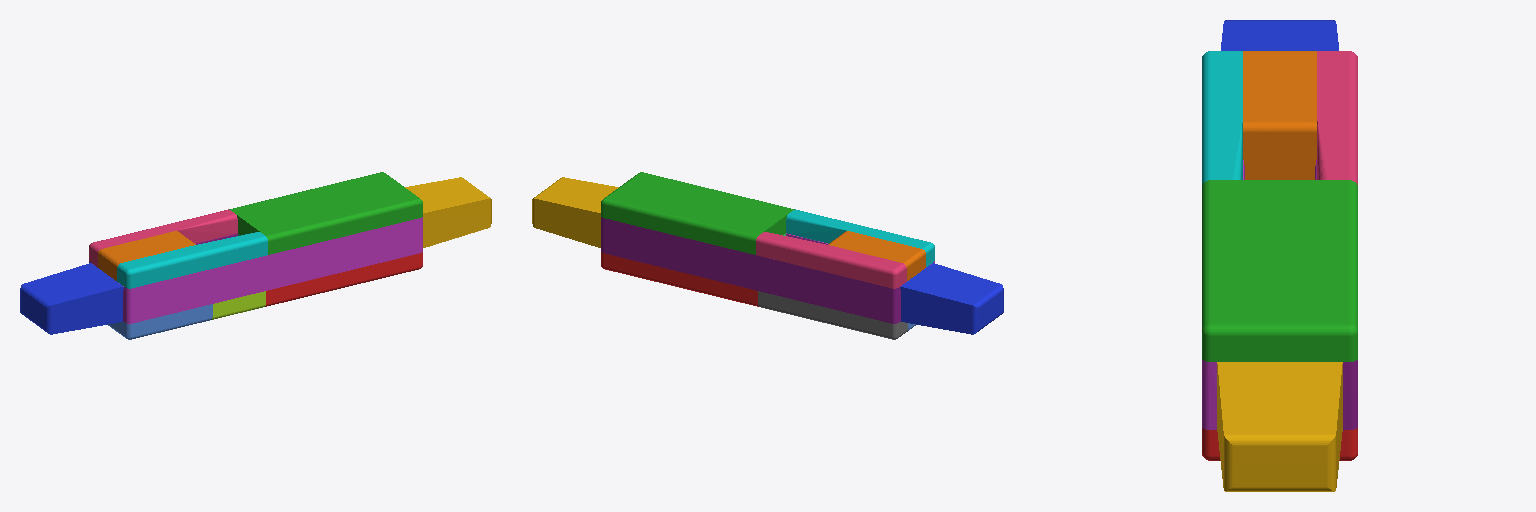
robot.urdf — beam_3_coacd:
<?xml version="1.0"?>
<robot name="beam_3_coacd">
  <material name="color_0"><color rgba="0.9 0.2 0.2 1.0"/></material>
  <material name="color_1"><color rgba="0.2 0.7 0.2 1.0"/></material>
  <material name="color_2"><color rgba="0.2 0.3 0.9 1.0"/></material>
  <material name="color_3"><color rgba="0.9 0.7 0.1 1.0"/></material>
  <material name="color_4"><color rgba="0.8 0.3 0.8 1.0"/></material>
  <material name="color_5"><color rgba="0.1 0.8 0.8 1.0"/></material>
  <material name="color_6"><color rgba="0.9 0.5 0.1 1.0"/></material>
  <material name="color_7"><color rgba="0.5 0.5 0.5 1.0"/></material>
  <material name="color_8"><color rgba="0.6 0.2 0.6 1.0"/></material>
  <material name="color_9"><color rgba="0.3 0.9 0.5 1.0"/></material>
  <material name="color_10"><color rgba="0.9 0.3 0.5 1.0"/></material>
  <material name="color_11"><color rgba="0.4 0.6 0.9 1.0"/></material>
  <material name="color_12"><color rgba="0.7 0.9 0.2 1.0"/></material>
  <link name="base_link">
    <inertial>
      <density value="1250.0"/>
    </inertial>
  </link>
  <link name="hull_0">
    <visual>
      <origin xyz="0 0 0" rpy="0 0 0"/>
      <geometry>
        <mesh filename="decomp_0.obj" scale="1 1 1"/>
      </geometry>
      <material name="color_0"/>
    </visual>
    <collision>
      <origin xyz="0 0 0" rpy="0 0 0"/>
      <geometry>
        <mesh filename="decomp_0.obj" scale="1 1 1"/>
      </geometry>
    </collision>
    <inertial>
      <mass value="0.001"/>
      <inertia ixx="1e-6" ixy="0" ixz="0" iyy="1e-6" iyz="0" izz="1e-6"/>
    </inertial>
  </link>
  <joint name="hull_joint_0" type="fixed">
    <parent link="base_link"/>
    <child link="hull_0"/>
    <origin xyz="0 0 0" rpy="0 0 0"/>
  </joint>
  <link name="hull_1">
    <visual>
      <origin xyz="0 0 0" rpy="0 0 0"/>
      <geometry>
        <mesh filename="decomp_1.obj" scale="1 1 1"/>
      </geometry>
      <material name="color_1"/>
    </visual>
    <collision>
      <origin xyz="0 0 0" rpy="0 0 0"/>
      <geometry>
        <mesh filename="decomp_1.obj" scale="1 1 1"/>
      </geometry>
    </collision>
    <inertial>
      <mass value="0.001"/>
      <inertia ixx="1e-6" ixy="0" ixz="0" iyy="1e-6" iyz="0" izz="1e-6"/>
    </inertial>
  </link>
  <joint name="hull_joint_1" type="fixed">
    <parent link="base_link"/>
    <child link="hull_1"/>
    <origin xyz="0 0 0" rpy="0 0 0"/>
  </joint>
  <link name="hull_2">
    <visual>
      <origin xyz="0 0 0" rpy="0 0 0"/>
      <geometry>
        <mesh filename="decomp_2.obj" scale="1 1 1"/>
      </geometry>
      <material name="color_2"/>
    </visual>
    <collision>
      <origin xyz="0 0 0" rpy="0 0 0"/>
      <geometry>
        <mesh filename="decomp_2.obj" scale="1 1 1"/>
      </geometry>
    </collision>
    <inertial>
      <mass value="0.001"/>
      <inertia ixx="1e-6" ixy="0" ixz="0" iyy="1e-6" iyz="0" izz="1e-6"/>
    </inertial>
  </link>
  <joint name="hull_joint_2" type="fixed">
    <parent link="base_link"/>
    <child link="hull_2"/>
    <origin xyz="0 0 0" rpy="0 0 0"/>
  </joint>
  <link name="hull_3">
    <visual>
      <origin xyz="0 0 0" rpy="0 0 0"/>
      <geometry>
        <mesh filename="decomp_3.obj" scale="1 1 1"/>
      </geometry>
      <material name="color_3"/>
    </visual>
    <collision>
      <origin xyz="0 0 0" rpy="0 0 0"/>
      <geometry>
        <mesh filename="decomp_3.obj" scale="1 1 1"/>
      </geometry>
    </collision>
    <inertial>
      <mass value="0.001"/>
      <inertia ixx="1e-6" ixy="0" ixz="0" iyy="1e-6" iyz="0" izz="1e-6"/>
    </inertial>
  </link>
  <joint name="hull_joint_3" type="fixed">
    <parent link="base_link"/>
    <child link="hull_3"/>
    <origin xyz="0 0 0" rpy="0 0 0"/>
  </joint>
  <link name="hull_4">
    <visual>
      <origin xyz="0 0 0" rpy="0 0 0"/>
      <geometry>
        <mesh filename="decomp_4.obj" scale="1 1 1"/>
      </geometry>
      <material name="color_4"/>
    </visual>
    <collision>
      <origin xyz="0 0 0" rpy="0 0 0"/>
      <geometry>
        <mesh filename="decomp_4.obj" scale="1 1 1"/>
      </geometry>
    </collision>
    <inertial>
      <mass value="0.001"/>
      <inertia ixx="1e-6" ixy="0" ixz="0" iyy="1e-6" iyz="0" izz="1e-6"/>
    </inertial>
  </link>
  <joint name="hull_joint_4" type="fixed">
    <parent link="base_link"/>
    <child link="hull_4"/>
    <origin xyz="0 0 0" rpy="0 0 0"/>
  </joint>
  <link name="hull_5">
    <visual>
      <origin xyz="0 0 0" rpy="0 0 0"/>
      <geometry>
        <mesh filename="decomp_5.obj" scale="1 1 1"/>
      </geometry>
      <material name="color_5"/>
    </visual>
    <collision>
      <origin xyz="0 0 0" rpy="0 0 0"/>
      <geometry>
        <mesh filename="decomp_5.obj" scale="1 1 1"/>
      </geometry>
    </collision>
    <inertial>
      <mass value="0.001"/>
      <inertia ixx="1e-6" ixy="0" ixz="0" iyy="1e-6" iyz="0" izz="1e-6"/>
    </inertial>
  </link>
  <joint name="hull_joint_5" type="fixed">
    <parent link="base_link"/>
    <child link="hull_5"/>
    <origin xyz="0 0 0" rpy="0 0 0"/>
  </joint>
  <link name="hull_6">
    <visual>
      <origin xyz="0 0 0" rpy="0 0 0"/>
      <geometry>
        <mesh filename="decomp_6.obj" scale="1 1 1"/>
      </geometry>
      <material name="color_6"/>
    </visual>
    <collision>
      <origin xyz="0 0 0" rpy="0 0 0"/>
      <geometry>
        <mesh filename="decomp_6.obj" scale="1 1 1"/>
      </geometry>
    </collision>
    <inertial>
      <mass value="0.001"/>
      <inertia ixx="1e-6" ixy="0" ixz="0" iyy="1e-6" iyz="0" izz="1e-6"/>
    </inertial>
  </link>
  <joint name="hull_joint_6" type="fixed">
    <parent link="base_link"/>
    <child link="hull_6"/>
    <origin xyz="0 0 0" rpy="0 0 0"/>
  </joint>
  <link name="hull_7">
    <visual>
      <origin xyz="0 0 0" rpy="0 0 0"/>
      <geometry>
        <mesh filename="decomp_7.obj" scale="1 1 1"/>
      </geometry>
      <material name="color_7"/>
    </visual>
    <collision>
      <origin xyz="0 0 0" rpy="0 0 0"/>
      <geometry>
        <mesh filename="decomp_7.obj" scale="1 1 1"/>
      </geometry>
    </collision>
    <inertial>
      <mass value="0.001"/>
      <inertia ixx="1e-6" ixy="0" ixz="0" iyy="1e-6" iyz="0" izz="1e-6"/>
    </inertial>
  </link>
  <joint name="hull_joint_7" type="fixed">
    <parent link="base_link"/>
    <child link="hull_7"/>
    <origin xyz="0 0 0" rpy="0 0 0"/>
  </joint>
  <link name="hull_8">
    <visual>
      <origin xyz="0 0 0" rpy="0 0 0"/>
      <geometry>
        <mesh filename="decomp_8.obj" scale="1 1 1"/>
      </geometry>
      <material name="color_8"/>
    </visual>
    <collision>
      <origin xyz="0 0 0" rpy="0 0 0"/>
      <geometry>
        <mesh filename="decomp_8.obj" scale="1 1 1"/>
      </geometry>
    </collision>
    <inertial>
      <mass value="0.001"/>
      <inertia ixx="1e-6" ixy="0" ixz="0" iyy="1e-6" iyz="0" izz="1e-6"/>
    </inertial>
  </link>
  <joint name="hull_joint_8" type="fixed">
    <parent link="base_link"/>
    <child link="hull_8"/>
    <origin xyz="0 0 0" rpy="0 0 0"/>
  </joint>
  <link name="hull_9">
    <visual>
      <origin xyz="0 0 0" rpy="0 0 0"/>
      <geometry>
        <mesh filename="decomp_9.obj" scale="1 1 1"/>
      </geometry>
      <material name="color_9"/>
    </visual>
    <collision>
      <origin xyz="0 0 0" rpy="0 0 0"/>
      <geometry>
        <mesh filename="decomp_9.obj" scale="1 1 1"/>
      </geometry>
    </collision>
    <inertial>
      <mass value="0.001"/>
      <inertia ixx="1e-6" ixy="0" ixz="0" iyy="1e-6" iyz="0" izz="1e-6"/>
    </inertial>
  </link>
  <joint name="hull_joint_9" type="fixed">
    <parent link="base_link"/>
    <child link="hull_9"/>
    <origin xyz="0 0 0" rpy="0 0 0"/>
  </joint>
  <link name="hull_10">
    <visual>
      <origin xyz="0 0 0" rpy="0 0 0"/>
      <geometry>
        <mesh filename="decomp_10.obj" scale="1 1 1"/>
      </geometry>
      <material name="color_10"/>
    </visual>
    <collision>
      <origin xyz="0 0 0" rpy="0 0 0"/>
      <geometry>
        <mesh filename="decomp_10.obj" scale="1 1 1"/>
      </geometry>
    </collision>
    <inertial>
      <mass value="0.001"/>
      <inertia ixx="1e-6" ixy="0" ixz="0" iyy="1e-6" iyz="0" izz="1e-6"/>
    </inertial>
  </link>
  <joint name="hull_joint_10" type="fixed">
    <parent link="base_link"/>
    <child link="hull_10"/>
    <origin xyz="0 0 0" rpy="0 0 0"/>
  </joint>
  <link name="hull_11">
    <visual>
      <origin xyz="0 0 0" rpy="0 0 0"/>
      <geometry>
        <mesh filename="decomp_11.obj" scale="1 1 1"/>
      </geometry>
      <material name="color_11"/>
    </visual>
    <collision>
      <origin xyz="0 0 0" rpy="0 0 0"/>
      <geometry>
        <mesh filename="decomp_11.obj" scale="1 1 1"/>
      </geometry>
    </collision>
    <inertial>
      <mass value="0.001"/>
      <inertia ixx="1e-6" ixy="0" ixz="0" iyy="1e-6" iyz="0" izz="1e-6"/>
    </inertial>
  </link>
  <joint name="hull_joint_11" type="fixed">
    <parent link="base_link"/>
    <child link="hull_11"/>
    <origin xyz="0 0 0" rpy="0 0 0"/>
  </joint>
  <link name="hull_12">
    <visual>
      <origin xyz="0 0 0" rpy="0 0 0"/>
      <geometry>
        <mesh filename="decomp_12.obj" scale="1 1 1"/>
      </geometry>
      <material name="color_12"/>
    </visual>
    <collision>
      <origin xyz="0 0 0" rpy="0 0 0"/>
      <geometry>
        <mesh filename="decomp_12.obj" scale="1 1 1"/>
      </geometry>
    </collision>
    <inertial>
      <mass value="0.001"/>
      <inertia ixx="1e-6" ixy="0" ixz="0" iyy="1e-6" iyz="0" izz="1e-6"/>
    </inertial>
  </link>
  <joint name="hull_joint_12" type="fixed">
    <parent link="base_link"/>
    <child link="hull_12"/>
    <origin xyz="0 0 0" rpy="0 0 0"/>
  </joint>
</robot>

--- Facts derived from the render (not from the file) ---
Views: 3 orthographic renders of the robot side by side, from view 1: azimuth 30°, elevation 25°; view 2: azimuth 150°, elevation 25°; view 3: azimuth 270°, elevation 25°.
Robot: beam_3_coacd — 14 links, 13 joints (13 fixed); root link base_link; default pose: every joint at zero.
Links seen in each view (by area): view 1: hull_4, hull_1, hull_2, hull_5, hull_3, hull_0, hull_10, hull_6, hull_11, hull_12; view 2: hull_8, hull_1, hull_2, hull_10, hull_3, hull_0, hull_7, hull_5, hull_6; view 3: hull_1, hull_3, hull_6, hull_5, hull_10, hull_2, hull_4, hull_8, hull_0.
Boxes of the visible links, x1,y1,x2,y2 form: hull_4: (119, 217, 422, 323); hull_1: (229, 172, 422, 254); hull_2: (20, 263, 123, 334); hull_5: (117, 232, 267, 288); hull_3: (405, 177, 491, 247); hull_0: (265, 252, 422, 306); hull_10: (89, 209, 237, 266); hull_6: (98, 231, 195, 280); hull_11: (108, 304, 212, 339); hull_12: (212, 291, 265, 319); hull_8: (601, 217, 904, 323); hull_1: (601, 172, 794, 254); hull_2: (900, 263, 1003, 334); hull_10: (756, 232, 906, 288); hull_3: (532, 177, 618, 247); hull_0: (601, 252, 758, 306); hull_7: (758, 291, 907, 339); hull_5: (786, 209, 934, 266); hull_6: (828, 231, 925, 280); hull_1: (1202, 180, 1357, 361); hull_3: (1217, 362, 1342, 491); hull_6: (1243, 51, 1316, 179); hull_5: (1202, 51, 1242, 184); hull_10: (1317, 51, 1357, 184); hull_2: (1221, 20, 1338, 50); hull_4: (1202, 160, 1244, 429); hull_8: (1315, 160, 1357, 430); hull_0: (1202, 428, 1357, 460).
Size in the robot's own frame: 0.2286 by 0.036 by 0.0345 metres.
Meshes: 13 distinct files referenced, 13 mesh visuals loaded (13 OBJ).
